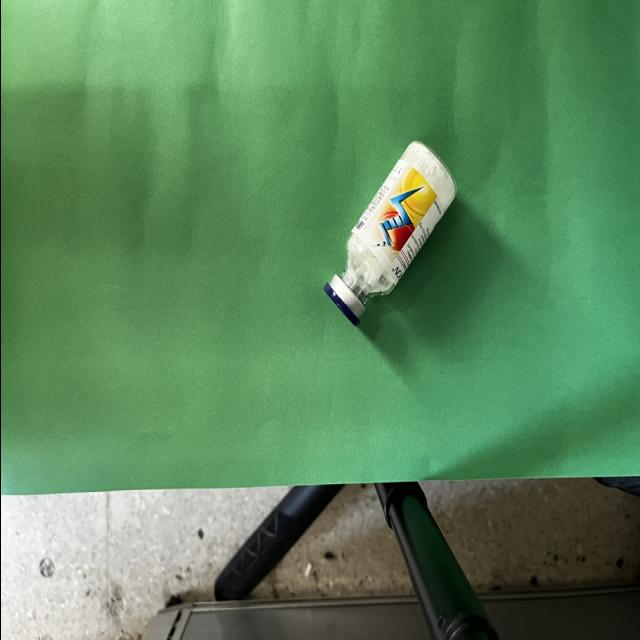Vials: (324, 141, 454, 327)
